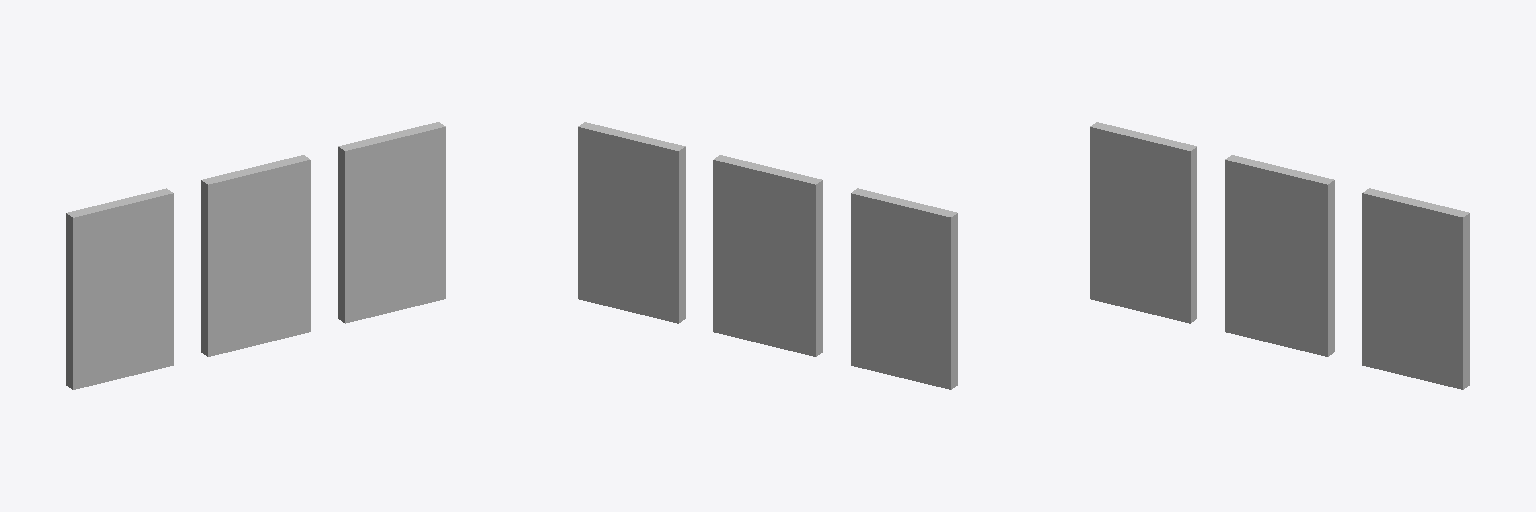
The model's file is zhamen.obj.
The picture shows the model from 3 angles: view 1: azimuth 30°, elevation 25°; view 2: azimuth 150°, elevation 25°; view 3: azimuth 330°, elevation 25°; orthographic projection.
Parts seen in each view (by area): view 1: gate_1; view 2: gate_1; view 3: gate_1.
Boxes of the visible parts, <box> form: gate_1: <box>66,122,445,389</box>; gate_1: <box>578,122,957,389</box>; gate_1: <box>1090,122,1469,389</box>.
Bounding box in the file's own units: 10.89 × 4.81 × 0.3564.